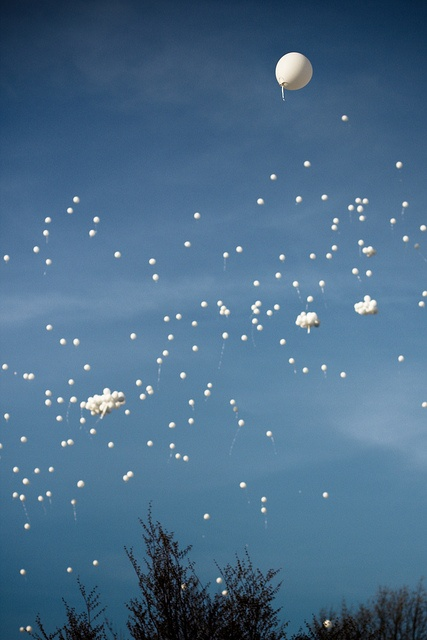Balloon: (275, 52, 313, 91), (116, 392, 125, 402), (341, 114, 349, 123), (321, 491, 329, 500), (168, 421, 176, 430), (295, 196, 303, 204), (356, 205, 364, 213), (235, 245, 243, 253), (237, 419, 245, 427), (77, 480, 85, 488), (83, 364, 91, 372), (152, 274, 160, 282), (44, 398, 52, 406), (184, 240, 191, 249), (418, 300, 425, 309), (396, 161, 403, 169), (304, 161, 312, 168), (270, 174, 278, 181), (355, 197, 362, 205), (347, 204, 355, 211), (358, 215, 366, 222), (309, 253, 317, 260), (222, 251, 229, 259), (307, 295, 314, 303), (274, 303, 281, 311), (363, 295, 371, 302), (370, 300, 377, 308), (397, 355, 405, 362), (260, 495, 267, 503), (239, 482, 247, 489), (224, 309, 231, 317), (188, 398, 195, 406), (180, 372, 187, 380), (135, 379, 143, 386), (169, 442, 176, 450), (70, 396, 77, 404), (163, 315, 170, 323), (201, 301, 208, 309), (114, 251, 121, 259), (193, 212, 201, 219), (73, 196, 80, 204), (45, 258, 52, 266), (23, 522, 30, 530), (60, 440, 67, 448), (46, 324, 53, 332), (56, 396, 63, 404), (80, 400, 86, 409), (45, 216, 51, 225), (257, 198, 264, 205), (321, 194, 328, 201), (358, 239, 365, 246), (362, 198, 369, 205), (402, 235, 409, 242), (362, 247, 369, 254), (352, 268, 359, 275), (275, 272, 282, 279), (292, 281, 299, 288), (267, 309, 274, 316), (288, 358, 295, 365), (302, 367, 309, 374), (250, 304, 257, 311), (241, 335, 248, 342), (216, 300, 223, 307), (216, 577, 223, 584), (203, 513, 210, 520), (122, 475, 129, 482), (126, 471, 133, 478), (204, 390, 211, 397), (139, 393, 146, 400), (146, 440, 153, 447), (187, 417, 194, 424), (107, 441, 114, 448), (90, 428, 97, 435), (79, 417, 86, 424), (162, 350, 169, 357), (73, 339, 80, 346), (149, 258, 156, 265), (93, 216, 100, 223), (33, 246, 40, 253), (3, 255, 10, 262), (45, 490, 52, 497), (70, 499, 77, 506), (22, 478, 29, 485), (20, 436, 27, 443), (27, 373, 34, 380), (3, 414, 10, 421), (66, 566, 73, 573), (266, 430, 272, 438), (183, 454, 189, 462), (68, 378, 74, 386), (59, 338, 65, 346), (333, 217, 339, 224), (331, 225, 338, 231), (390, 218, 396, 225), (402, 201, 408, 208), (331, 245, 338, 251), (366, 270, 372, 277), (279, 254, 285, 261), (253, 280, 260, 286), (319, 280, 325, 287), (340, 371, 346, 378), (256, 325, 263, 331), (321, 364, 327, 371), (260, 507, 267, 513), (230, 399, 236, 406), (254, 309, 261, 315), (222, 332, 228, 339), (156, 358, 163, 364), (145, 385, 152, 391), (130, 333, 136, 340), (175, 313, 181, 320), (191, 321, 198, 327), (192, 345, 198, 352), (89, 230, 96, 236), (67, 207, 73, 214), (19, 494, 25, 501), (37, 495, 43, 502), (56, 414, 62, 421), (2, 364, 8, 371), (92, 560, 99, 566), (19, 568, 25, 575), (13, 466, 18, 474), (326, 253, 332, 259), (354, 303, 360, 309), (255, 301, 261, 307), (207, 383, 213, 389), (124, 409, 130, 415), (175, 453, 181, 459), (168, 334, 174, 340), (43, 230, 49, 236), (12, 492, 18, 498), (34, 468, 40, 474), (280, 338, 285, 345), (422, 291, 427, 298), (48, 467, 53, 473)
